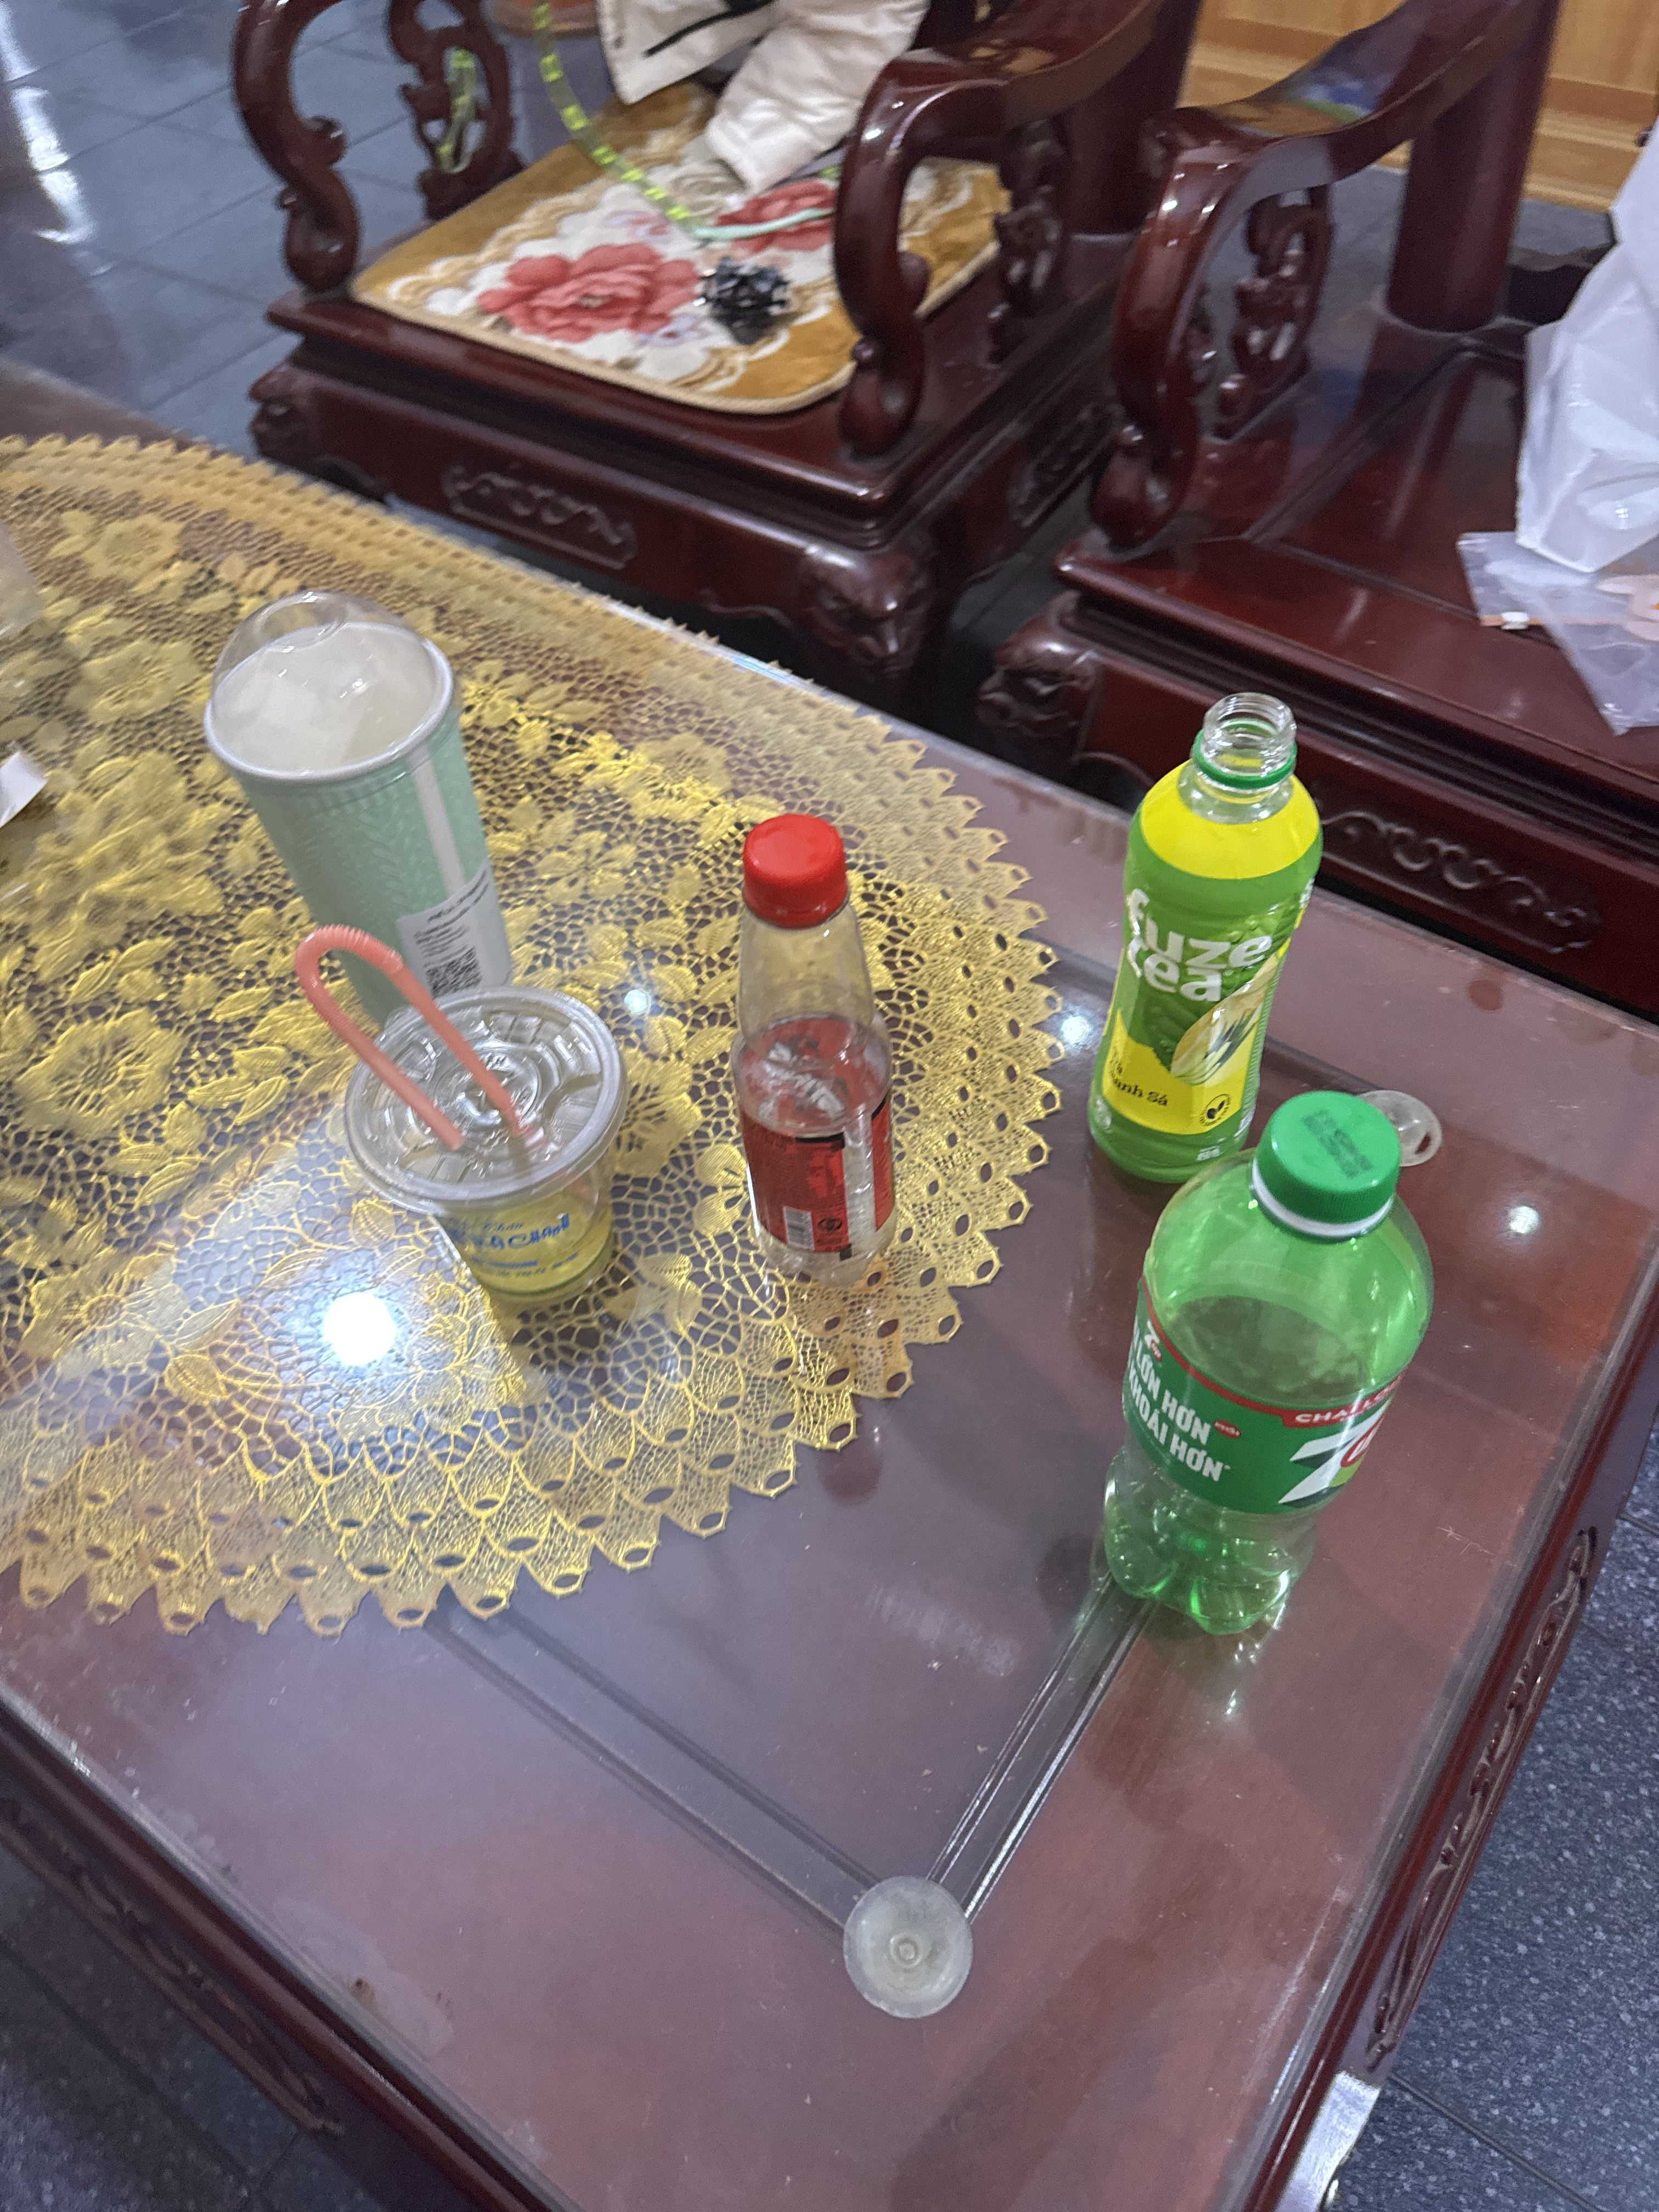bottle: (1046, 1076, 1495, 1677), (1044, 643, 1408, 1198), (673, 789, 957, 1343)
cup: (173, 552, 545, 1071), (291, 946, 674, 1449)
